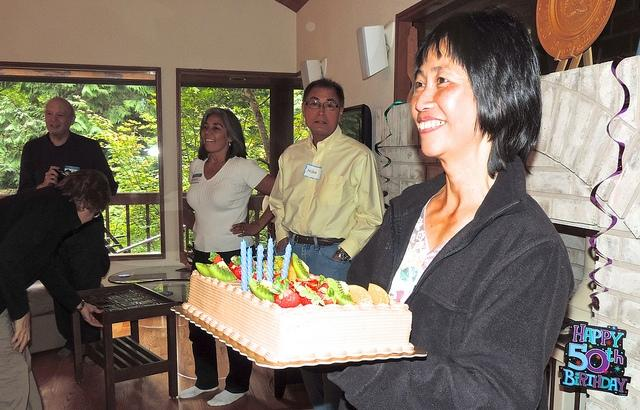kiwi: (328, 277, 353, 306), (248, 277, 274, 303), (208, 260, 238, 282), (292, 252, 310, 280), (196, 262, 213, 276), (273, 261, 282, 275), (234, 256, 242, 266), (274, 255, 284, 261)
